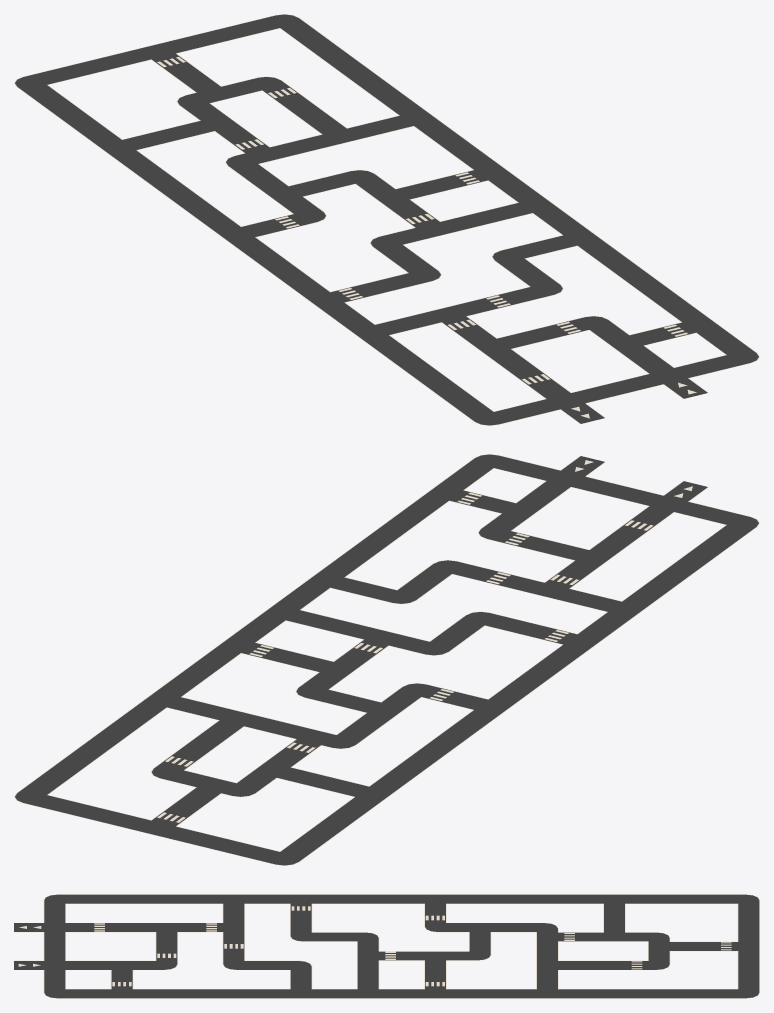
File: Dashboard_Map-2.fbx
3 renders of one model, top to bottom at view 1: azimuth 30°, elevation 25°; view 2: azimuth 150°, elevation 25°; view 3: azimuth 270°, elevation 25°, orthographic. The views are drawn at different scales.
Parts seen in each view (by area): view 1: Dashboard_map-2; view 2: Dashboard_map-2; view 3: Dashboard_map-2.
Boxes of the visible parts, x1,y1,x2,y2 form: Dashboard_map-2: [14, 14, 759, 425]; Dashboard_map-2: [14, 454, 759, 865]; Dashboard_map-2: [14, 894, 759, 998].
Bounding box in the file's own units: 13.2 × 0.00731 × 39.99.
